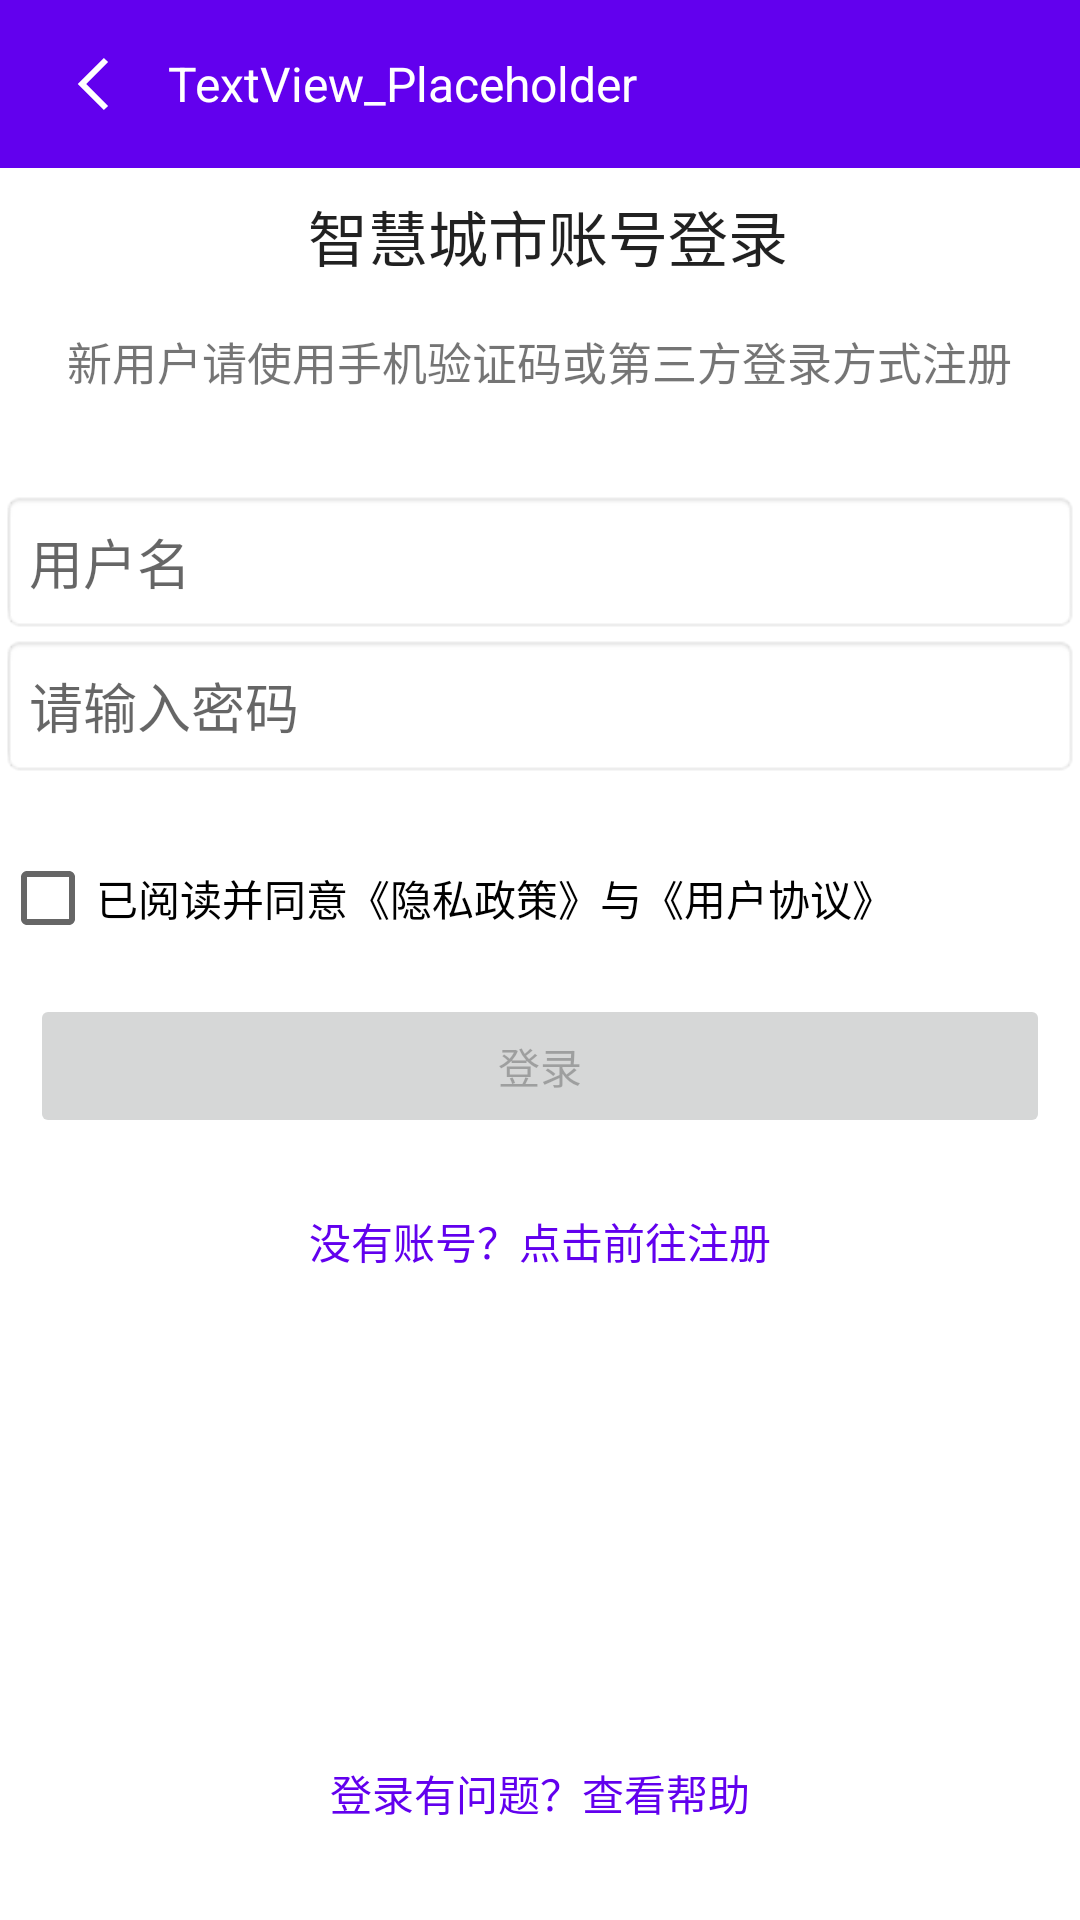

Screen size 1080 x 1920. Icon name, then its center in pixels as point (x, y):
arrow left: point (93, 84)
